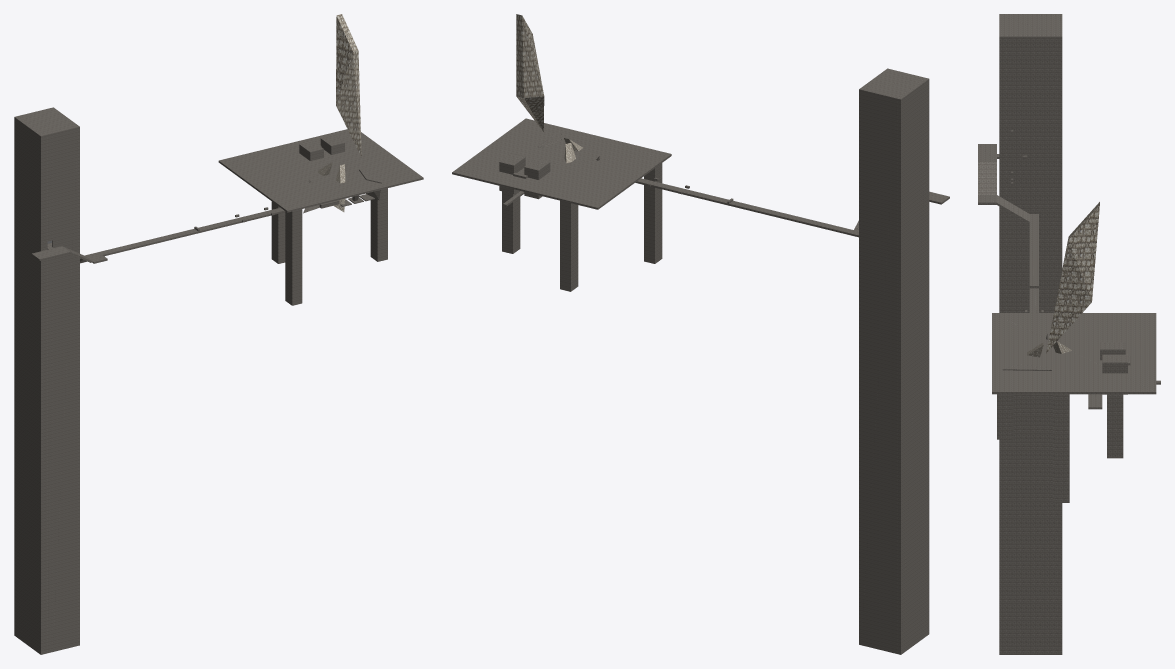
The model's file is level1.obj.
3 renders of one model, left to right at view 1: azimuth 30°, elevation 25°; view 2: azimuth 150°, elevation 25°; view 3: azimuth 270°, elevation 25°, orthographic. The views are drawn at different scales.
Visible parts, largest first — view 1: entity0_brush43, entity0_brush47, entity0_brush32, entity0_brush52, entity0_brush50, entity0_brush48, entity0_brush33, entity0_brush34, entity0_brush25, entity0_brush42, entity0_brush45, entity0_brush35 (+1 smaller); view 2: entity0_brush44, entity0_brush43, entity0_brush32, entity0_brush52, entity0_brush35, entity0_brush33, entity0_brush25, entity0_brush42, entity0_brush34, entity0_brush45; view 3: entity0_brush42, entity0_brush32, entity0_brush52, entity0_brush34, entity0_brush45, entity0_brush35, entity0_brush25, entity0_brush33, entity0_brush54, entity0_brush14, entity0_brush53, entity0_brush16 (+1 smaller).
Boxes of the visible parts, box(x1,y1,x2,y2) form: entity0_brush43: box(14, 116, 44, 654); entity0_brush47: box(52, 126, 78, 651); entity0_brush32: box(218, 129, 423, 212); entity0_brush52: box(336, 14, 361, 156); entity0_brush50: box(47, 247, 52, 652); entity0_brush48: box(43, 134, 47, 653); entity0_brush33: box(285, 209, 302, 305); entity0_brush34: box(370, 188, 387, 261); entity0_brush25: box(80, 207, 285, 258); entity0_brush42: box(52, 107, 79, 645); entity0_brush45: box(19, 108, 76, 134); entity0_brush35: box(271, 201, 285, 263); entity0_brush44: box(861, 89, 897, 653); entity0_brush43: box(897, 78, 929, 654); entity0_brush32: box(452, 118, 671, 209); entity0_brush52: box(516, 14, 544, 131); entity0_brush35: box(560, 200, 578, 291); entity0_brush33: box(644, 163, 662, 263); entity0_brush25: box(635, 178, 858, 237); entity0_brush42: box(859, 68, 888, 644); entity0_brush34: box(502, 190, 520, 253); entity0_brush45: box(862, 69, 924, 97); entity0_brush42: box(999, 35, 1062, 654); entity0_brush32: box(992, 313, 1156, 394); entity0_brush52: box(1046, 202, 1099, 353); entity0_brush34: box(1053, 394, 1069, 502); entity0_brush45: box(1001, 16, 1059, 35); entity0_brush35: box(1107, 394, 1123, 458); entity0_brush25: box(1029, 214, 1038, 312); entity0_brush33: box(997, 394, 1013, 439); entity0_brush54: box(978, 162, 996, 194); entity0_brush14: box(1102, 354, 1127, 394); entity0_brush53: box(997, 195, 1029, 221); entity0_brush16: box(1100, 342, 1125, 360).
Bounding box in the file's own units: 7328 × 9448 × 2496.
5 materials, 5 textured.
